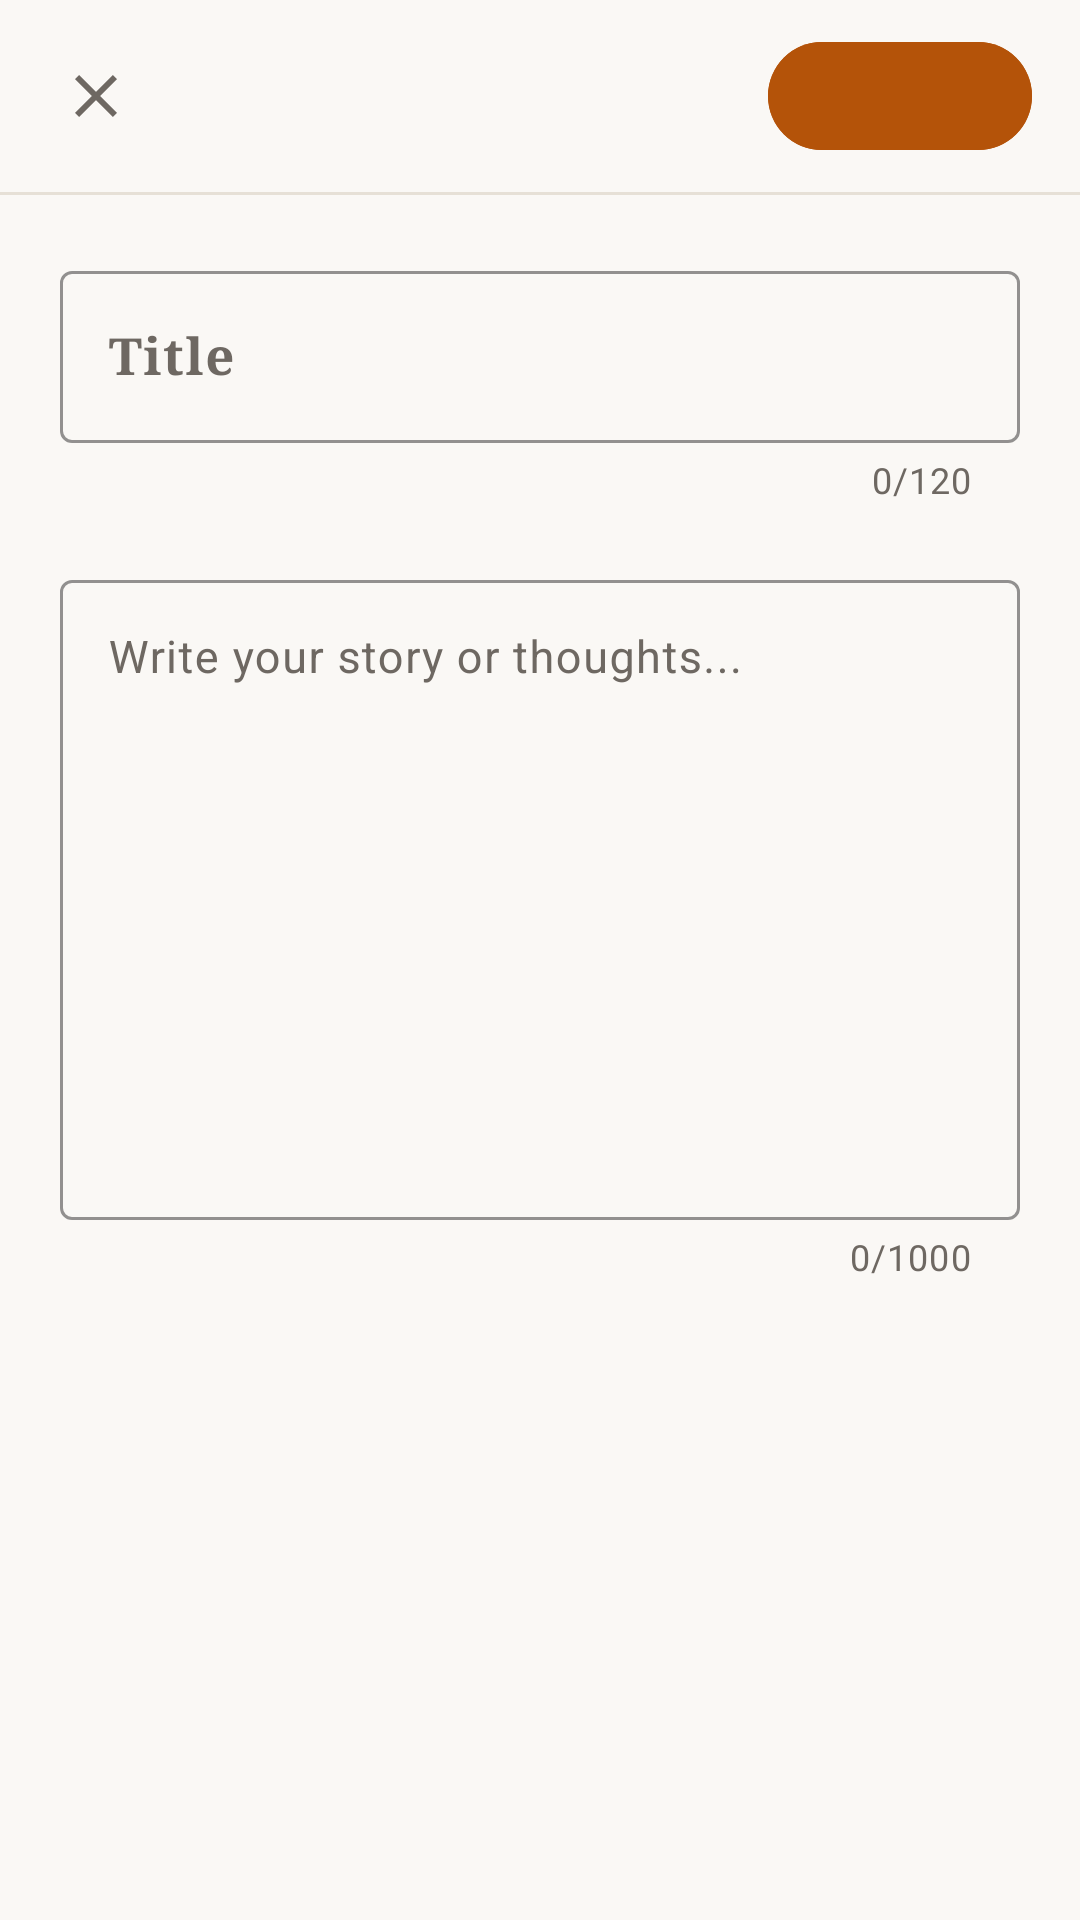

Named icons in this screenshot (1080 × 1920) and their centers, point (x, y):
Cancel: point (96, 96)
